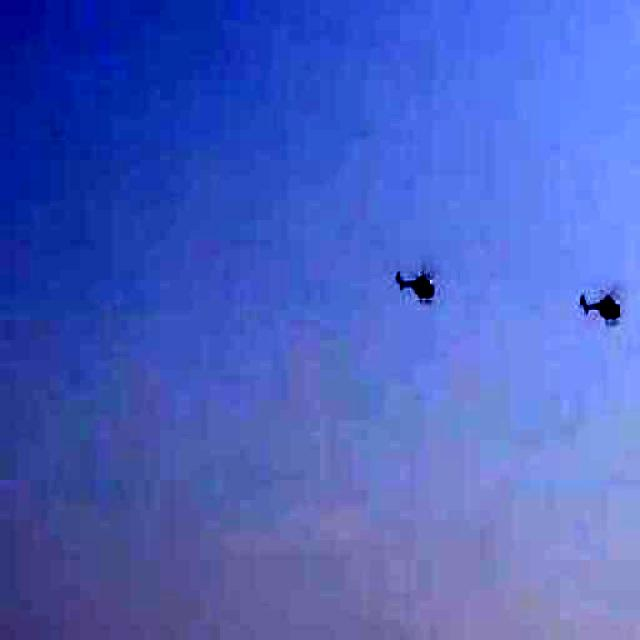drone: (385, 249, 449, 319), (571, 272, 632, 341)
